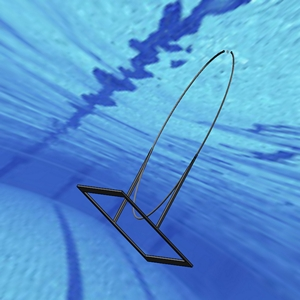circle: (76, 47, 235, 266)
